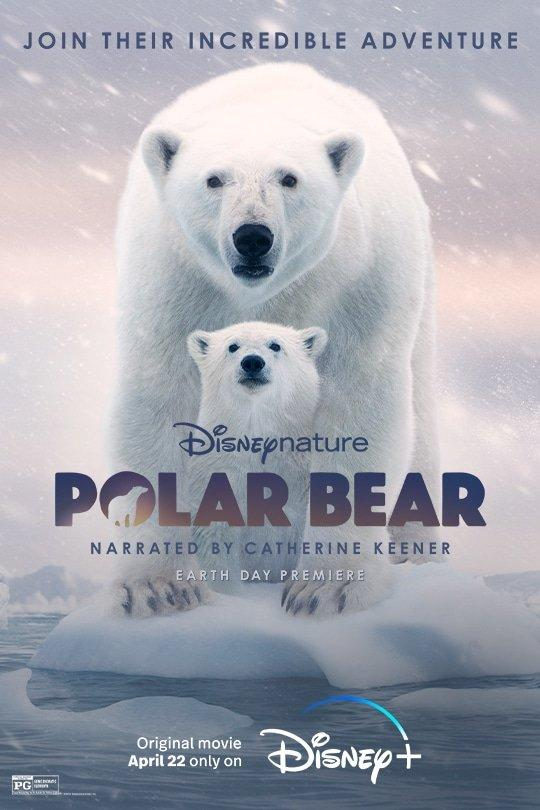bear: (108, 62, 446, 618), (187, 322, 330, 589)
